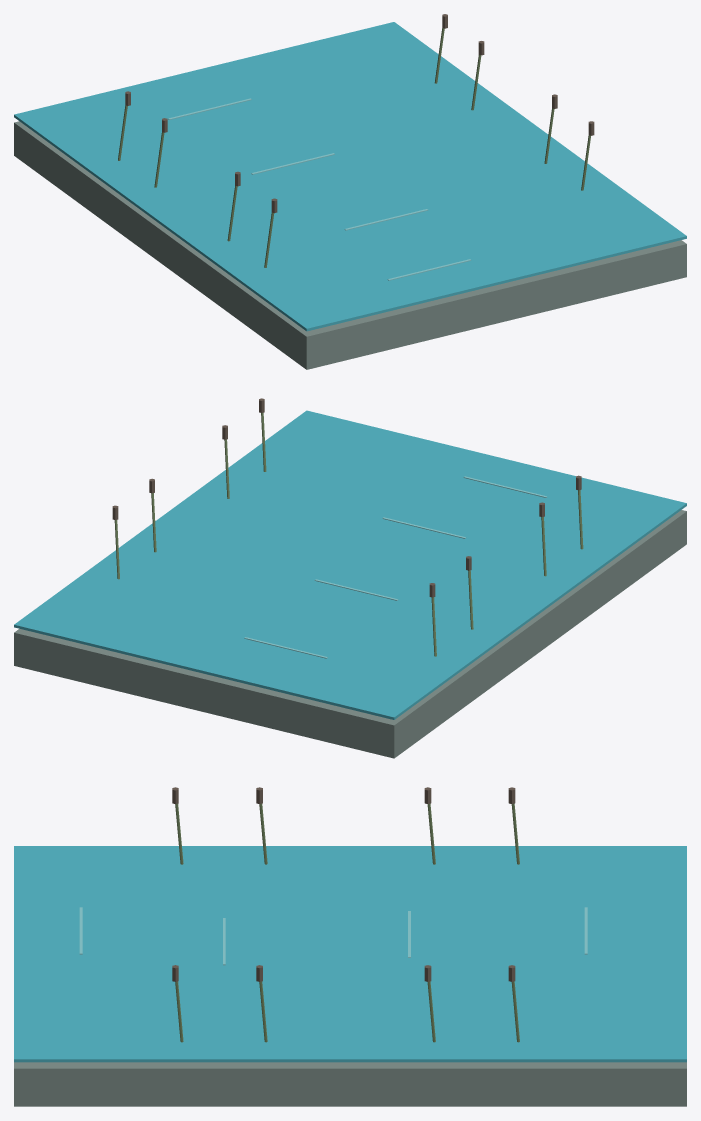
File: river_reeds.glb
The picture shows the model from 3 angles, top to bottom: view 1: azimuth 30°, elevation 25°; view 2: azimuth 150°, elevation 25°; view 3: azimuth 270°, elevation 25°; orthographic projection. The views are drawn at different scales.
Visible parts, largest first — view 1: river_reeds; view 2: river_reeds; view 3: river_reeds.
Part boxes in pixels (box(x1,y1,x2,y2)): river_reeds: box(14, 14, 686, 369); river_reeds: box(14, 398, 686, 758); river_reeds: box(14, 787, 686, 1106).
Bounding box in the file's own units: 6 × 1.65 × 8.
